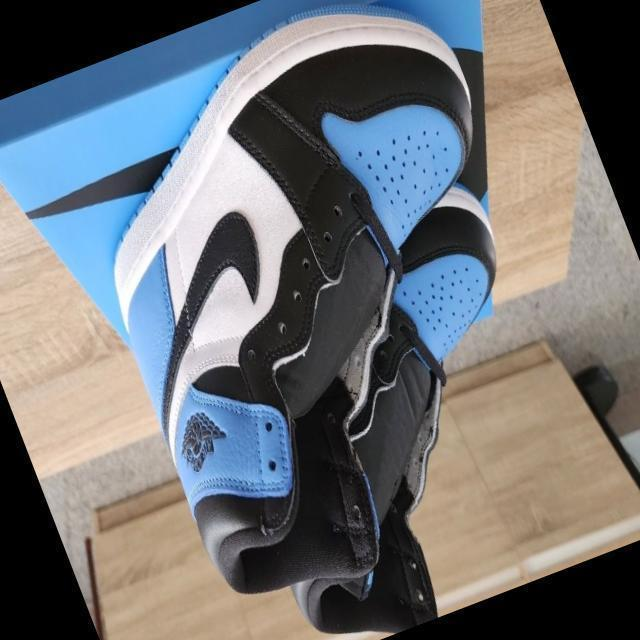nike original jordan 1: (38, 0, 621, 629), (172, 169, 616, 640)
